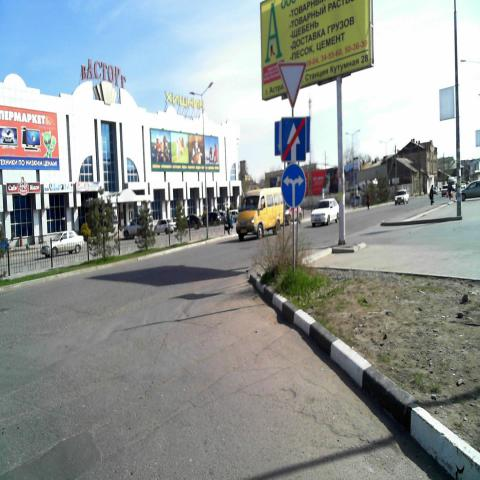4_1_6: (282, 164, 306, 208)
5_6: (281, 117, 306, 161)
